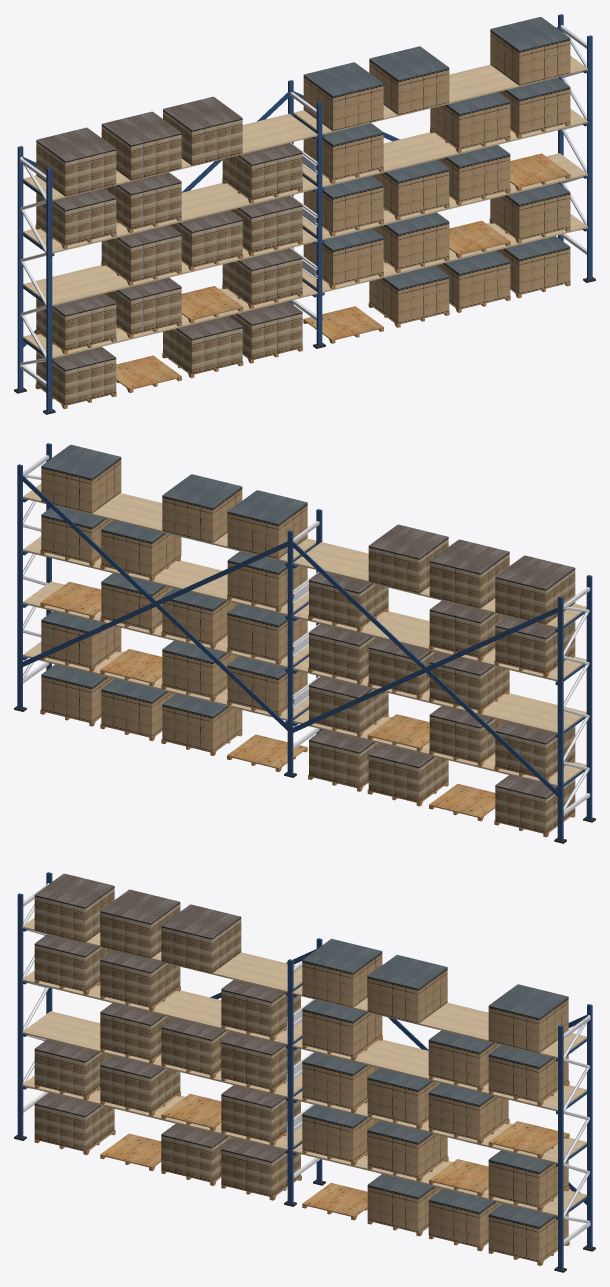
File: BigShelves01Group5.glb
3 views of the same model, one above another, from view 1: azimuth 30°, elevation 25°; view 2: azimuth 150°, elevation 25°; view 3: azimuth 330°, elevation 25° (orthographic).
Parts seen in each view (by area): view 1: Box_Pallet02, Box_Pallet01, BigShelves01, BigShelvesWoodBox; view 2: Box_Pallet02, Box_Pallet01, BigShelves01, BigShelvesWoodBox; view 3: Box_Pallet01, Box_Pallet02, BigShelves01, BigShelvesWoodBox.
Part boxes in pixels (x1=…): Box_Pallet02: x1=36, y1=96, x2=302, y2=405; Box_Pallet01: x1=303, y1=17, x2=570, y2=323; BigShelves01: x1=14, y1=14, x2=595, y2=414; BigShelvesWoodBox: x1=35, y1=122, x2=570, y2=408; Box_Pallet02: x1=309, y1=524, x2=575, y2=833; Box_Pallet01: x1=41, y1=444, x2=307, y2=751; BigShelves01: x1=14, y1=443, x2=595, y2=843; BigShelvesWoodBox: x1=40, y1=549, x2=575, y2=837; Box_Pallet01: x1=302, y1=938, x2=568, y2=1261; Box_Pallet02: x1=34, y1=873, x2=300, y2=1196; BigShelves01: x1=14, y1=872, x2=595, y2=1272; BigShelvesWoodBox: x1=34, y1=979, x2=569, y2=1265.
Bounding box in the file's own units: 17.75 × 7.66 × 1.82.
7 materials, 7 textured.
